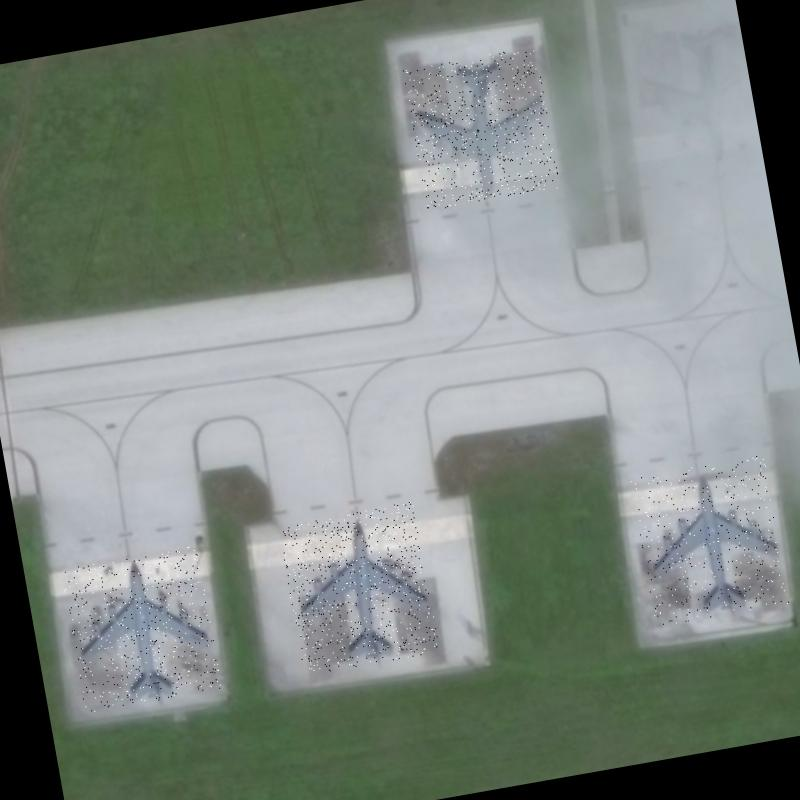A14: (278, 501, 440, 676), (630, 455, 790, 627), (60, 546, 222, 714), (403, 46, 560, 211)
